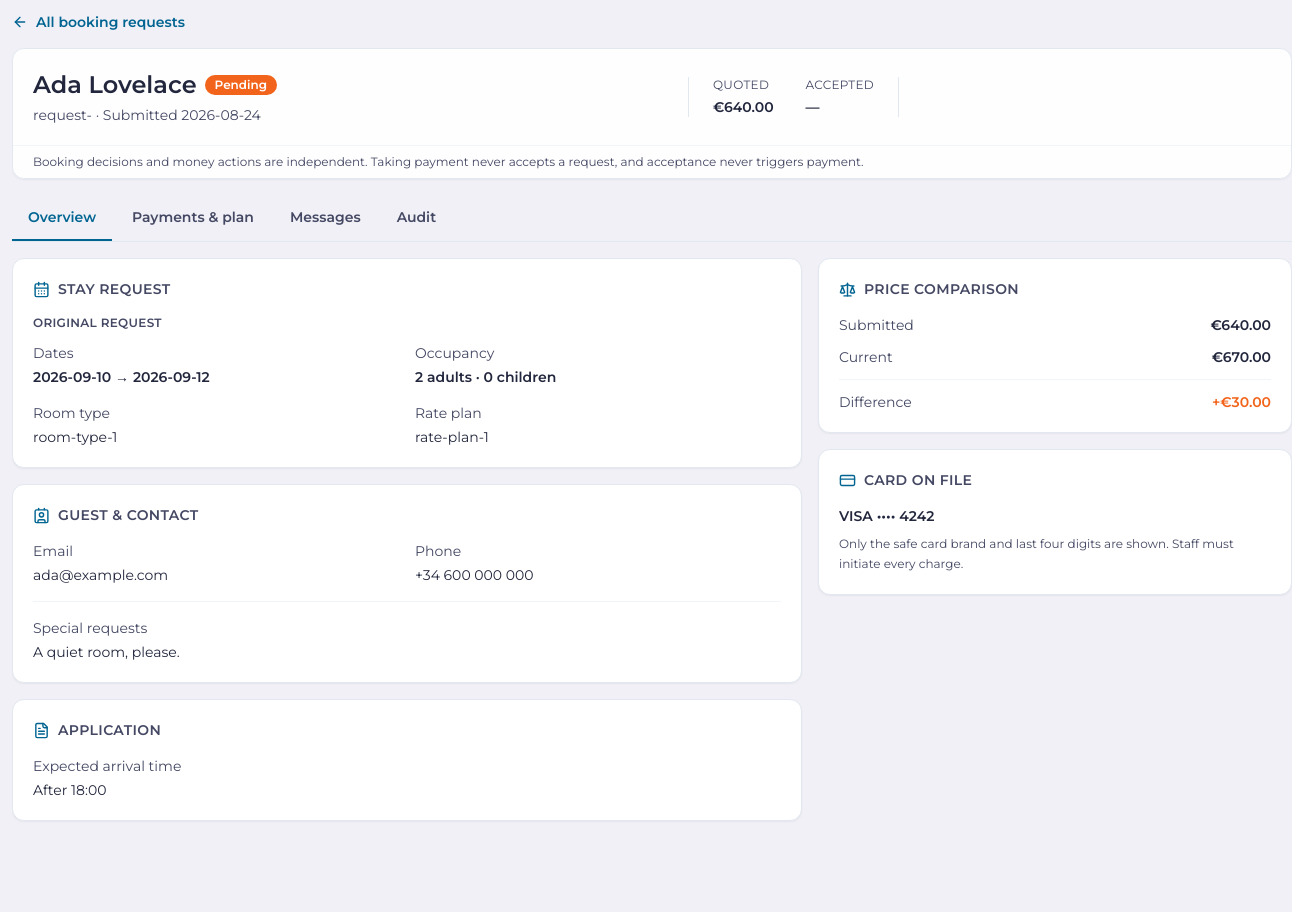
Booking request decisions › keeps decision and money actions independent and gates all writes
Expected: the heading "Ada Lovelace" is shown, [33,69,197,101]
What coordinates should you click on to do the following:
click the tab "Payments & plan"
I would click on:
 (193, 218)
Its box is [116,195,270,241].
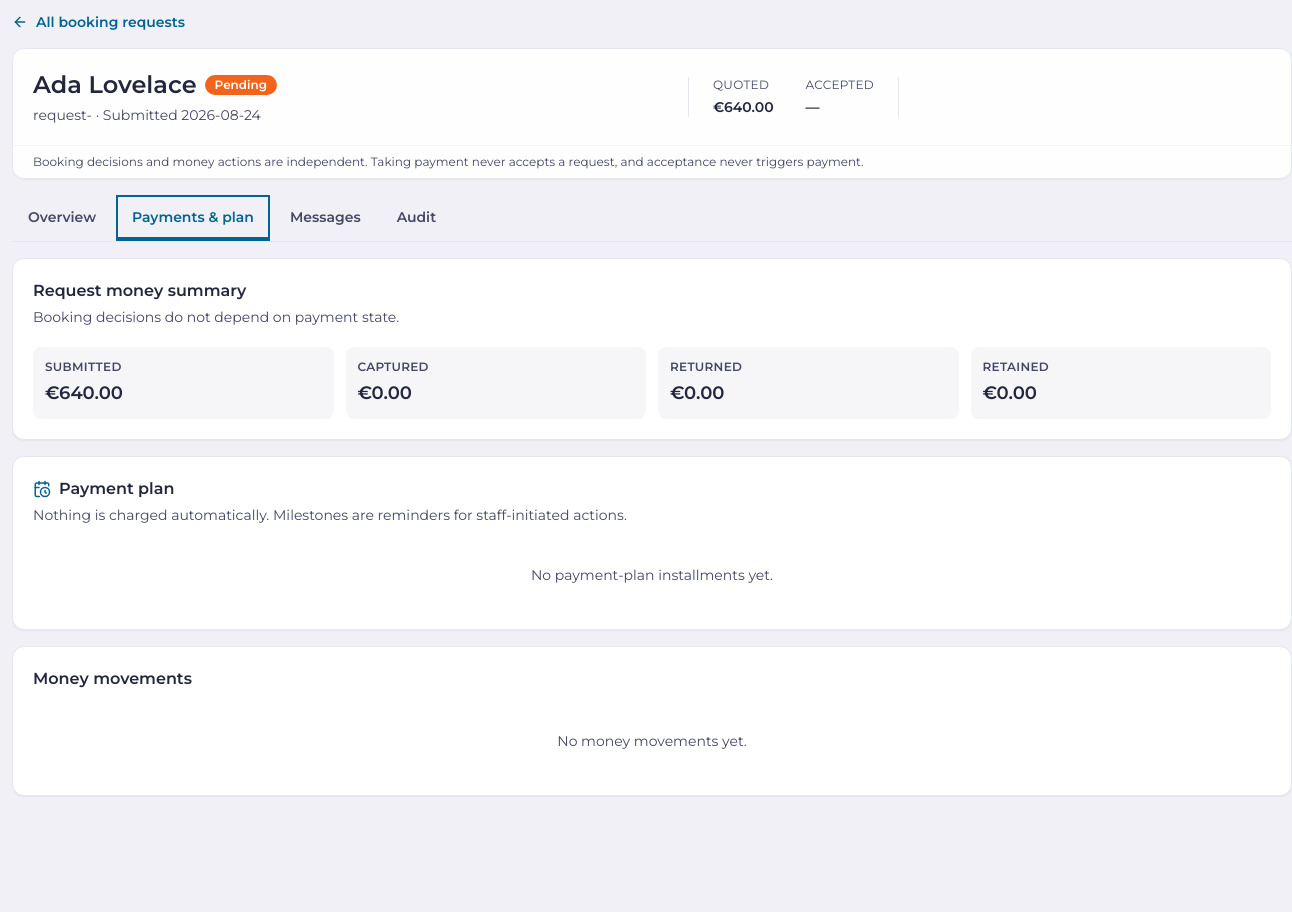
Now the text "Booking decisions do not depend on payment state." is shown, box [33,307,399,327]
